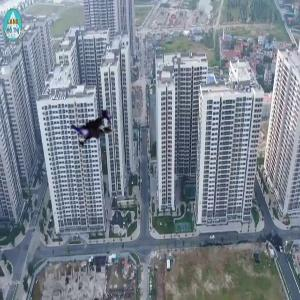drone: (49, 83, 127, 161)
